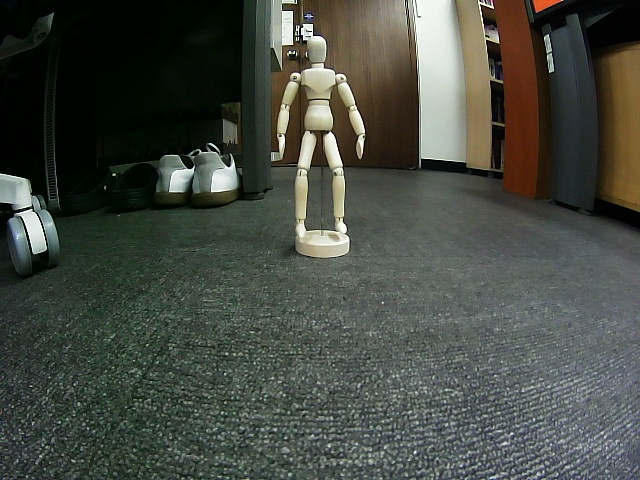person: (276, 35, 364, 238)
